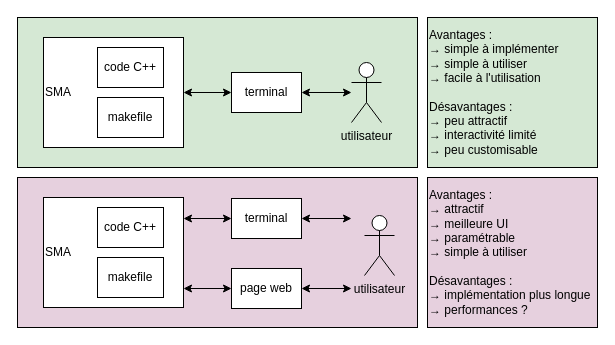
The diagram is 615 pixels wide and 345 high, and some of its shapes have lost their labels. Each missing label, with the box of its shape:
V1: (16, 16, 418, 168)
V2: (16, 176, 418, 328)
